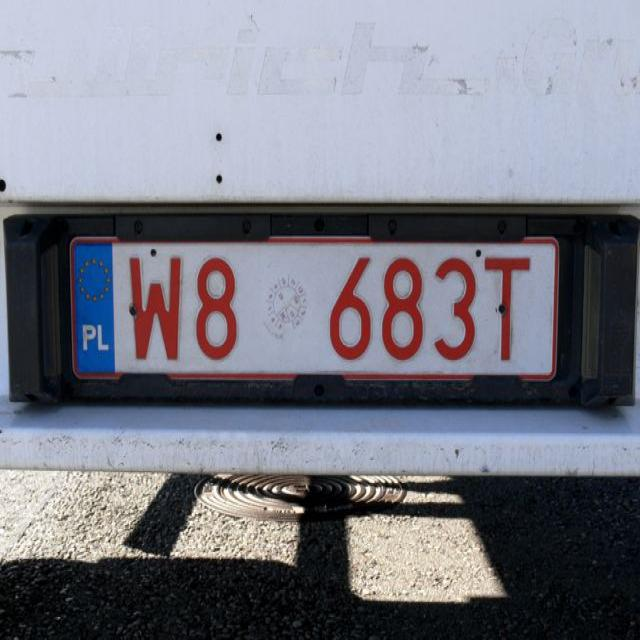pl_license_plate: (70, 237, 555, 376)
